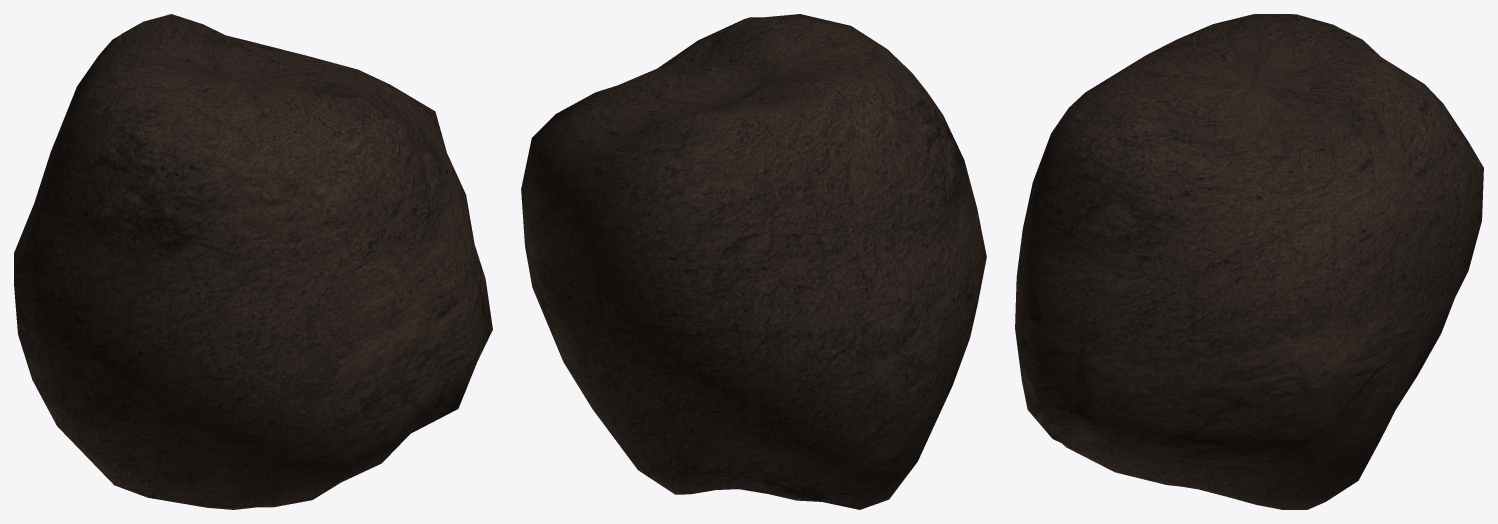
Rendered from Asteroid1.obj.
3 views of the same model, side by side, from view 1: azimuth 30°, elevation 25°; view 2: azimuth 150°, elevation 25°; view 3: azimuth 270°, elevation 25° (orthographic). The views are drawn at different scales.
Parts seen in each view (by area): view 1: pSphere1; view 2: pSphere1; view 3: pSphere1.
Boxes of the visible parts, x1,y1,x2,y2 form: pSphere1: (14, 14, 492, 509); pSphere1: (521, 14, 986, 509); pSphere1: (1015, 14, 1483, 509).
Size of the model in its own units: 3.77 by 3.79 by 3.81.
Materials: 1 (1 with a texture image).
